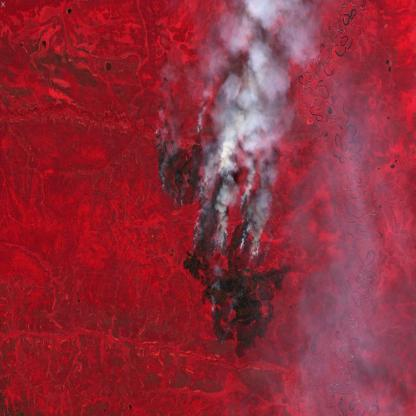fire: (152, 124, 268, 264), (207, 302, 236, 348), (278, 260, 296, 276)
